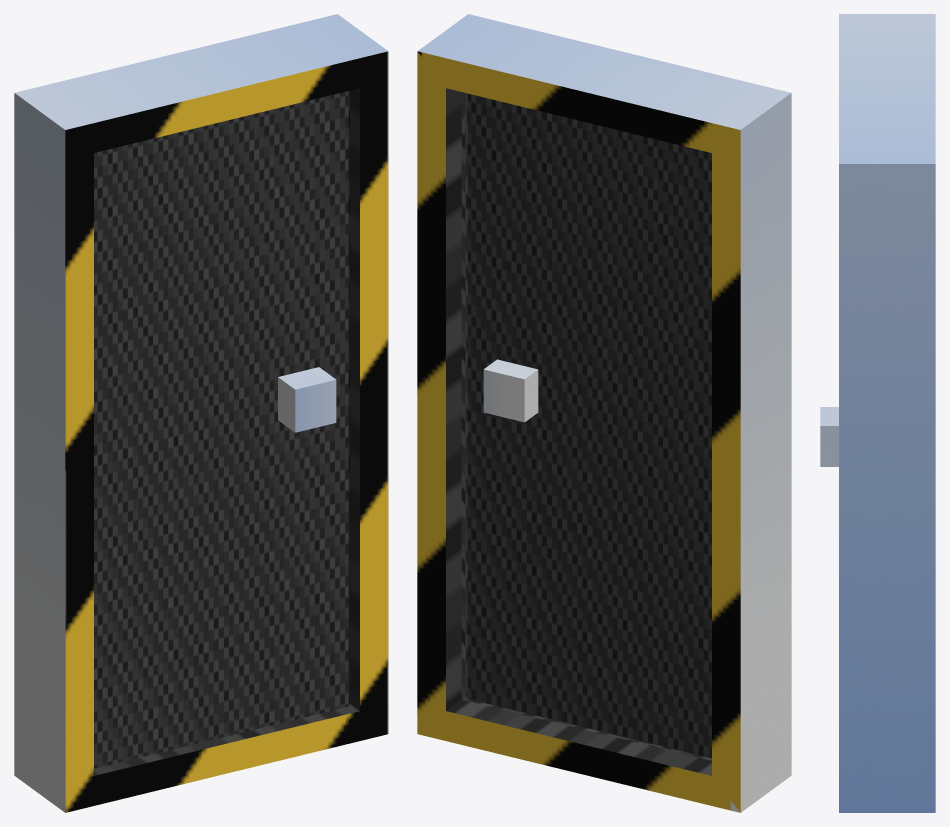
Rendered from KeypadDoor.fbx.
The picture shows the model from 3 angles, left to right: view 1: azimuth 30°, elevation 25°; view 2: azimuth 150°, elevation 25°; view 3: azimuth 270°, elevation 25°; orthographic projection. The views are drawn at different scales.
Visible parts, largest first — view 1: Cube.020, Cube.012; view 2: Cube.020, Cube.012; view 3: Cube.012, Cube.020.
Boxes of the visible parts, bbox=[...] form: Cube.020: bbox=[94, 91, 348, 768]; Cube.012: bbox=[14, 14, 388, 812]; Cube.020: bbox=[467, 93, 711, 758]; Cube.012: bbox=[417, 14, 791, 812]; Cube.012: bbox=[839, 14, 935, 812]; Cube.020: bbox=[820, 407, 838, 466].
Bounding box in the file's own units: 96.24 × 194 × 31.35.
